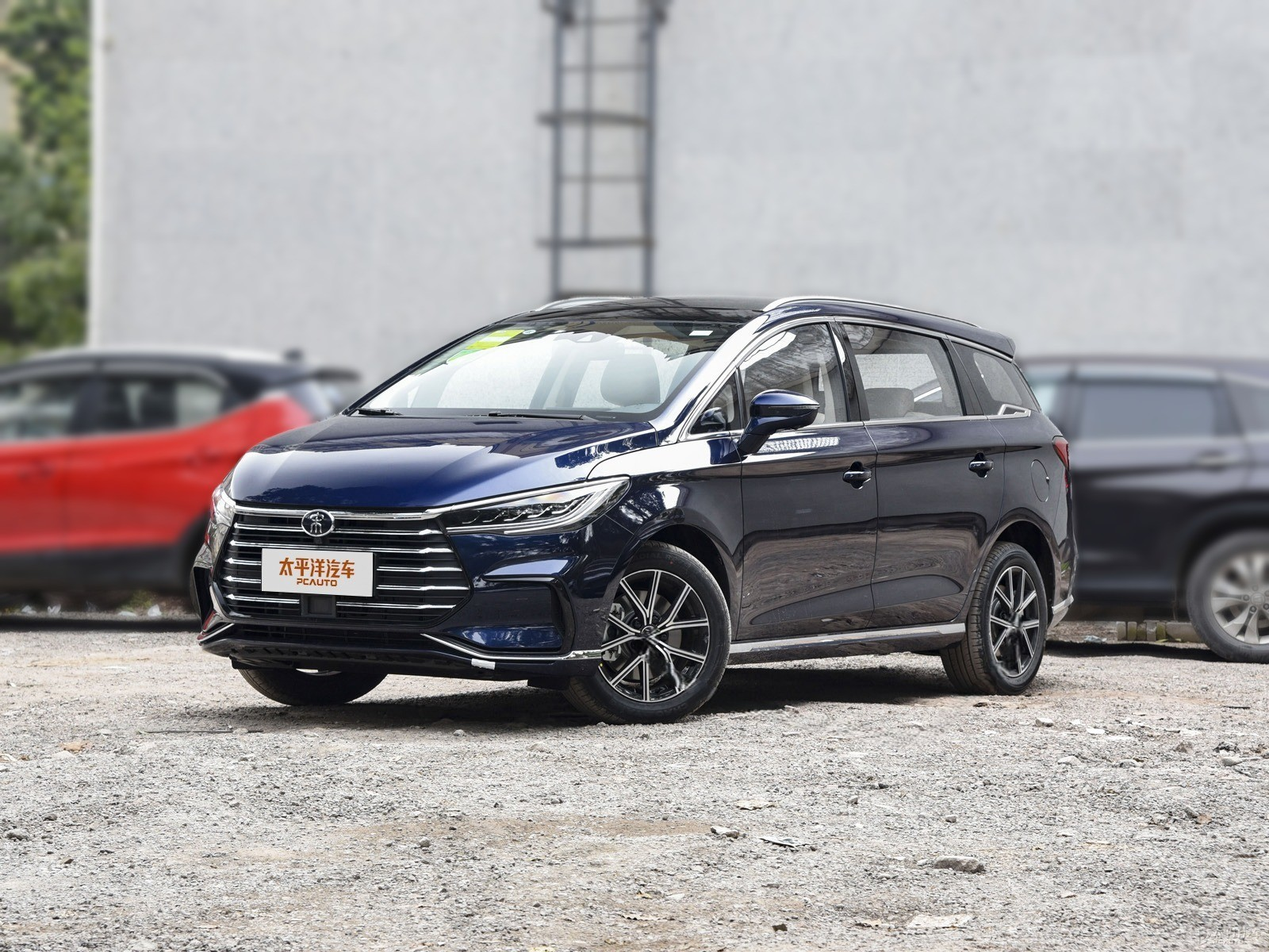BYD Song: (302, 509, 333, 536)
